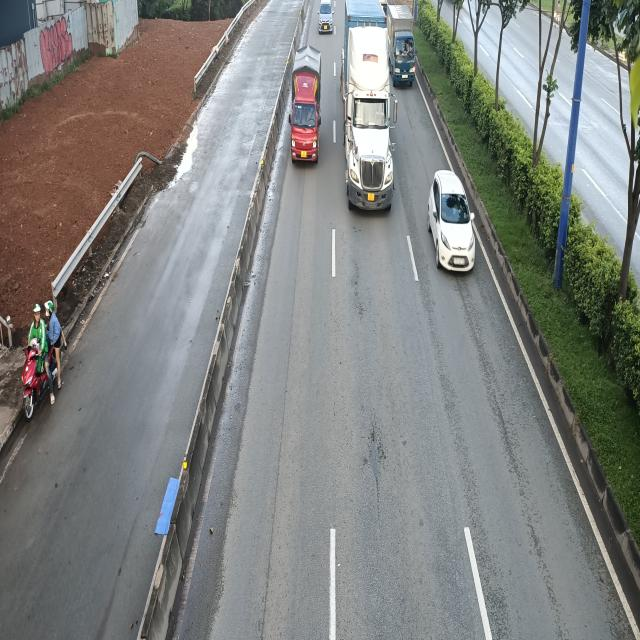car: (427, 170, 474, 274), (318, 0, 334, 33)
container: (340, 0, 396, 212)
truck: (286, 49, 321, 168), (388, 2, 417, 87)
